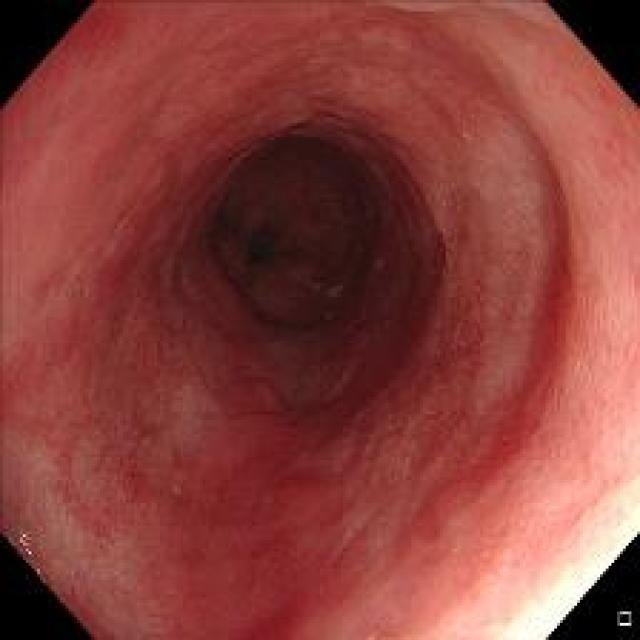color misalignment: (16, 526, 32, 558)
contrast: (209, 122, 420, 352)
saturation: (516, 579, 581, 632)
